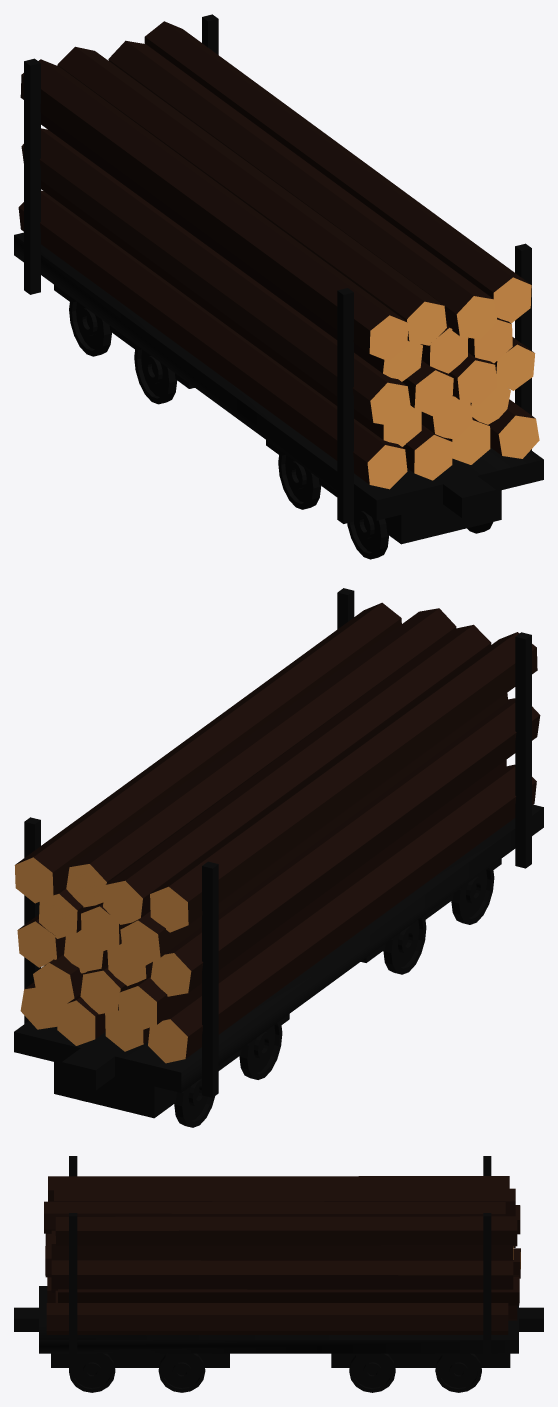
The model's file is cabin Two_0605.obj.
3 views of the same model, one above another, from view 1: azimuth 30°, elevation 25°; view 2: azimuth 150°, elevation 25°; view 3: azimuth 270°, elevation 25° (orthographic). The views are drawn at different scales.
Visible parts, largest first — view 1: Circle.017_Circle.035, Circle.007_Circle.025, Circle_Circle.001, Circle.015_Circle.033, cabin_set_Cube.009, Circle.016_Circle.034, Circle.014_Circle.032, Circle.013_Circle.031, Circle.006_Circle.024, cabin_set4_Cube.018, cabin_set6_Cube.020, cabin_set1_Cube.013 (+15 smaller); view 2: Circle.017_Circle.035, Circle.007_Circle.025, Circle_Circle.001, Circle.015_Circle.033, Circle.016_Circle.034, cabin_set_Cube.009, Circle.014_Circle.032, Circle.013_Circle.031, Circle.006_Circle.024, cabin_set6_Cube.020, cabin_set4_Cube.018, cabin_set2_Cube.016 (+15 smaller); view 3: Circle.003_Circle.021, Circle.014_Circle.032, Circle.010_Circle.028, cabin_set_Cube.009, Circle.015_Circle.033, Circle.011_Circle.029, Circle.016_Circle.034, Circle.004_Circle.022, Circle.017_Circle.035, Circle.021_Circle.080, Circle.018_Circle.079, Circle.020_Circle.081 (+5 smaller).
Part boxes in pixels (<box>): Circle.017_Circle.035: <box>20,59,408,361</box>; Circle.007_Circle.025: <box>21,128,410,426</box>; Circle_Circle.001: <box>18,190,407,489</box>; Circle.015_Circle.033: <box>108,40,497,339</box>; cabin_set_Cube.009: <box>14,232,543,520</box>; Circle.016_Circle.034: <box>57,46,446,345</box>; Circle.014_Circle.032: <box>144,21,531,323</box>; Circle.013_Circle.031: <box>41,113,422,381</box>; Circle.006_Circle.024: <box>41,180,421,446</box>; cabin_set4_Cube.018: <box>337,288,353,523</box>; cabin_set6_Cube.020: <box>24,58,40,294</box>; cabin_set1_Cube.013: <box>266,440,501,544</box>; Circle.017_Circle.035: <box>150,632,537,932</box>; Circle.007_Circle.025: <box>150,698,540,996</box>; Circle_Circle.001: <box>148,764,536,1063</box>; Circle.015_Circle.033: <box>66,608,456,907</box>; Circle.016_Circle.034: <box>103,624,491,924</box>; cabin_set_Cube.009: <box>14,804,543,1092</box>; Circle.014_Circle.032: <box>14,602,401,903</box>; Circle.013_Circle.031: <box>120,693,508,966</box>; Circle.006_Circle.024: <box>119,760,506,1031</box>; cabin_set6_Cube.020: <box>202,861,218,1097</box>; cabin_set4_Cube.018: <box>515,632,531,868</box>; cabin_set2_Cube.016: <box>54,1014,289,1118</box>; Circle.003_Circle.021: <box>46,1303,508,1334</box>; Circle.014_Circle.032: <box>55,1216,517,1246</box>; Circle.010_Circle.028: <box>51,1260,513,1289</box>; cabin_set_Cube.009: <box>14,1286,543,1353</box>; Circle.015_Circle.033: <box>44,1201,505,1233</box>; Circle.011_Circle.029: <box>51,1230,513,1260</box>; Circle.016_Circle.034: <box>54,1188,515,1216</box>; Circle.004_Circle.022: <box>58,1275,519,1305</box>; Circle.017_Circle.035: <box>48,1176,509,1201</box>; Circle.021_Circle.080: <box>349,1353,395,1392</box>; Circle.018_Circle.079: <box>435,1353,481,1392</box>; Circle.020_Circle.081: <box>158,1353,205,1392</box>.
Size of the model in its own units: 2.17 by 3.13 by 7.97.
